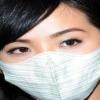mask: (2, 56, 100, 100)
